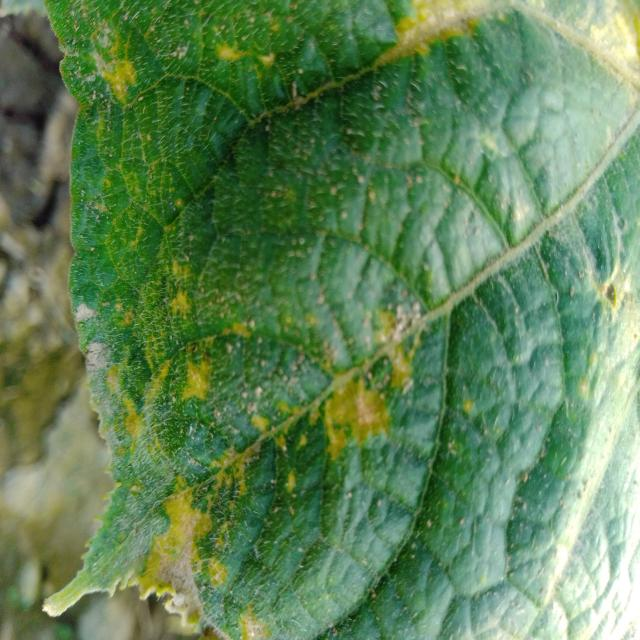cucumber_downy: (66, 5, 587, 640)
